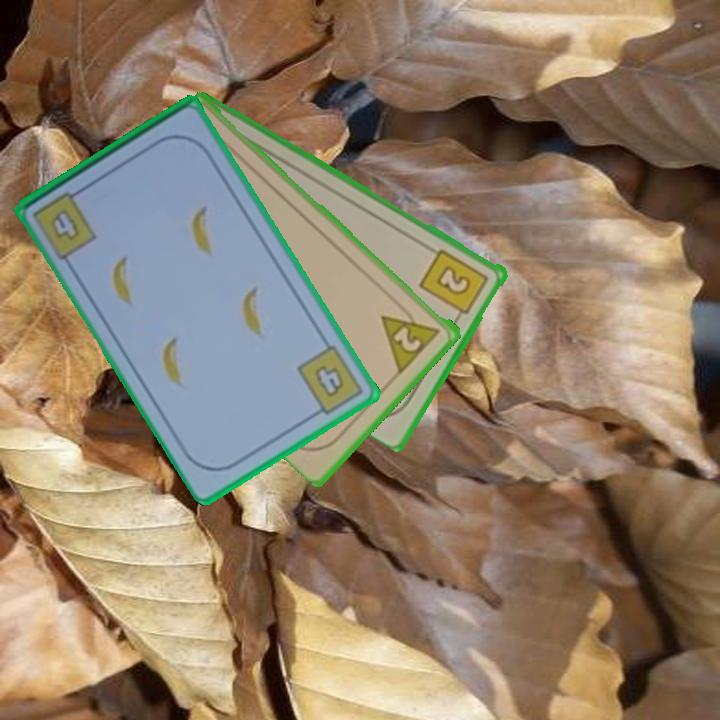2b: (416, 245, 492, 324)
2p: (378, 299, 444, 375)
4b: (293, 341, 367, 421), (47, 205, 83, 244)
